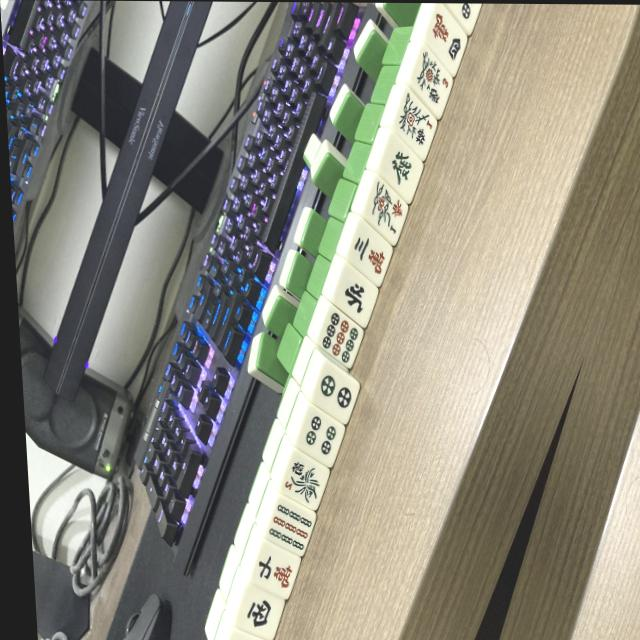f1: (387, 88, 441, 160)
f2: (275, 450, 333, 512)
f3: (403, 45, 456, 118)
fa: (373, 134, 427, 205)
ff1: (360, 177, 411, 246)
m3: (341, 220, 396, 288)
m4: (420, 4, 473, 78)
m7: (246, 540, 306, 601)
north: (327, 263, 383, 328)
s9: (260, 498, 318, 559)
t2: (306, 358, 364, 426)
t4: (289, 404, 348, 468)
t9: (311, 306, 367, 373)
west: (230, 584, 287, 640)
